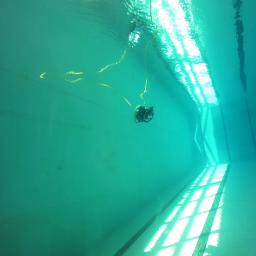Side: (134, 105, 156, 124)
